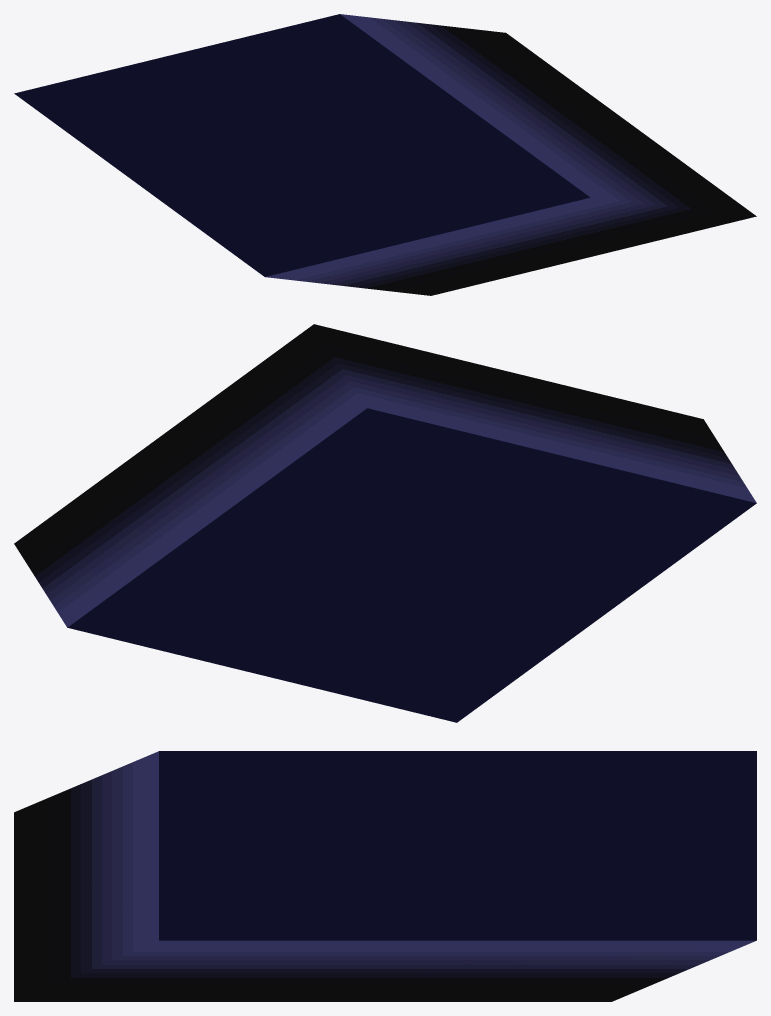
3 renders of one model, top to bottom at view 1: azimuth 30°, elevation 25°; view 2: azimuth 150°, elevation 25°; view 3: azimuth 270°, elevation 25°, orthographic. The views are drawn at different scales.
Visible parts, largest first — view 1: Joint_0_Object_0; view 2: Joint_0_Object_0; view 3: Joint_0_Object_0.
Boxes of the visible parts, left/top/right/bottom form: Joint_0_Object_0: left=14, top=14, right=756, bottom=295; Joint_0_Object_0: left=14, top=324, right=756, bottom=722; Joint_0_Object_0: left=14, top=751, right=756, bottom=1001.
Size of the model in its own units: 993 by 0 by 1243.
Materials: 1 (1 with a texture image).
